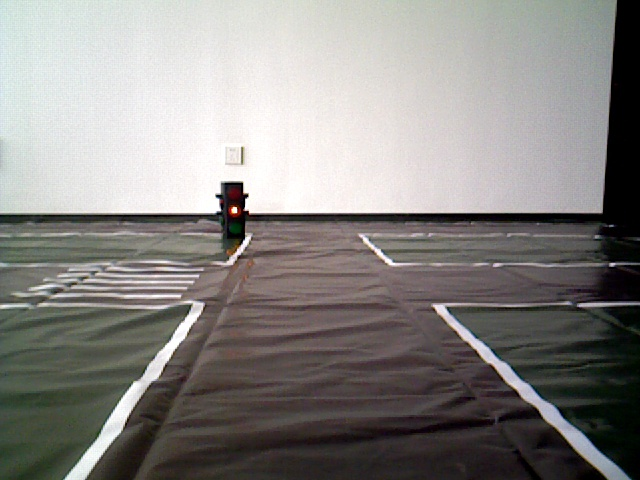yellow: (217, 181, 249, 237)
